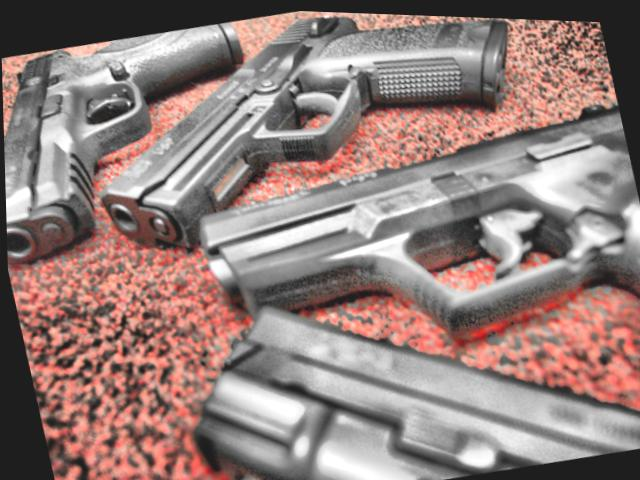pistol: (176, 75, 640, 405), (60, 2, 545, 274), (158, 222, 640, 480), (0, 12, 278, 275)
